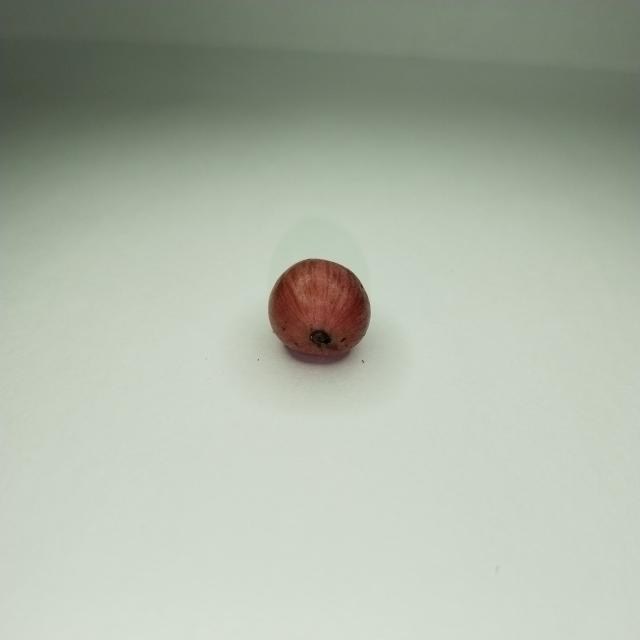Infectado: (269, 258, 369, 363)
